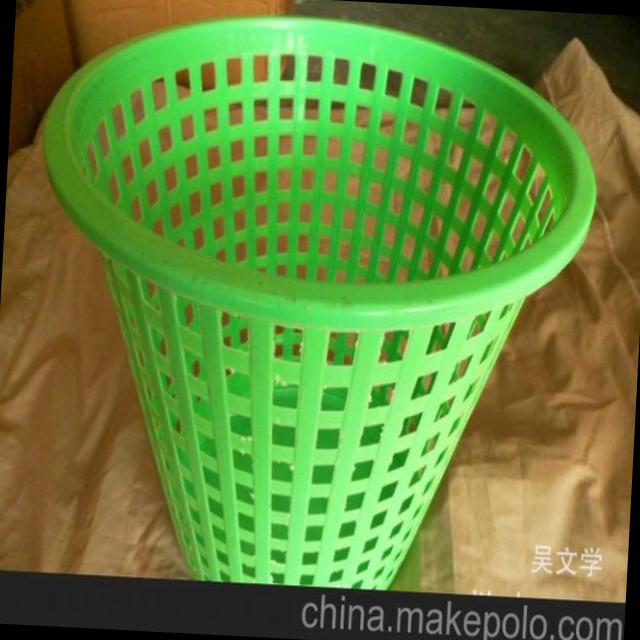dustbin: (12, 0, 612, 601)
